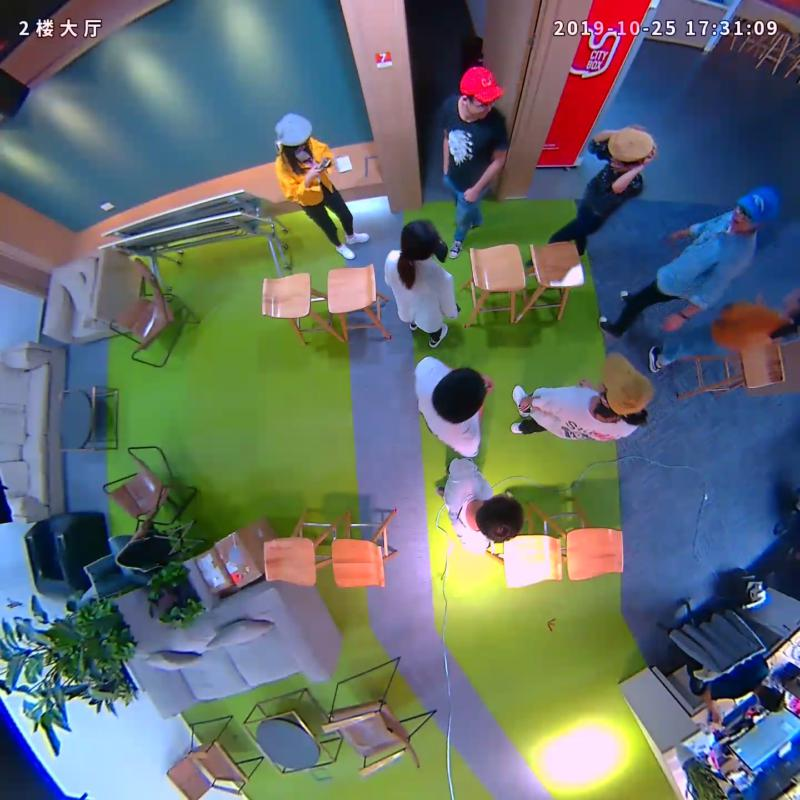head: (430, 366, 488, 426), (599, 354, 654, 417), (729, 183, 781, 232), (474, 495, 525, 544), (458, 64, 505, 117), (606, 126, 655, 172), (400, 217, 439, 261), (274, 112, 314, 153)
